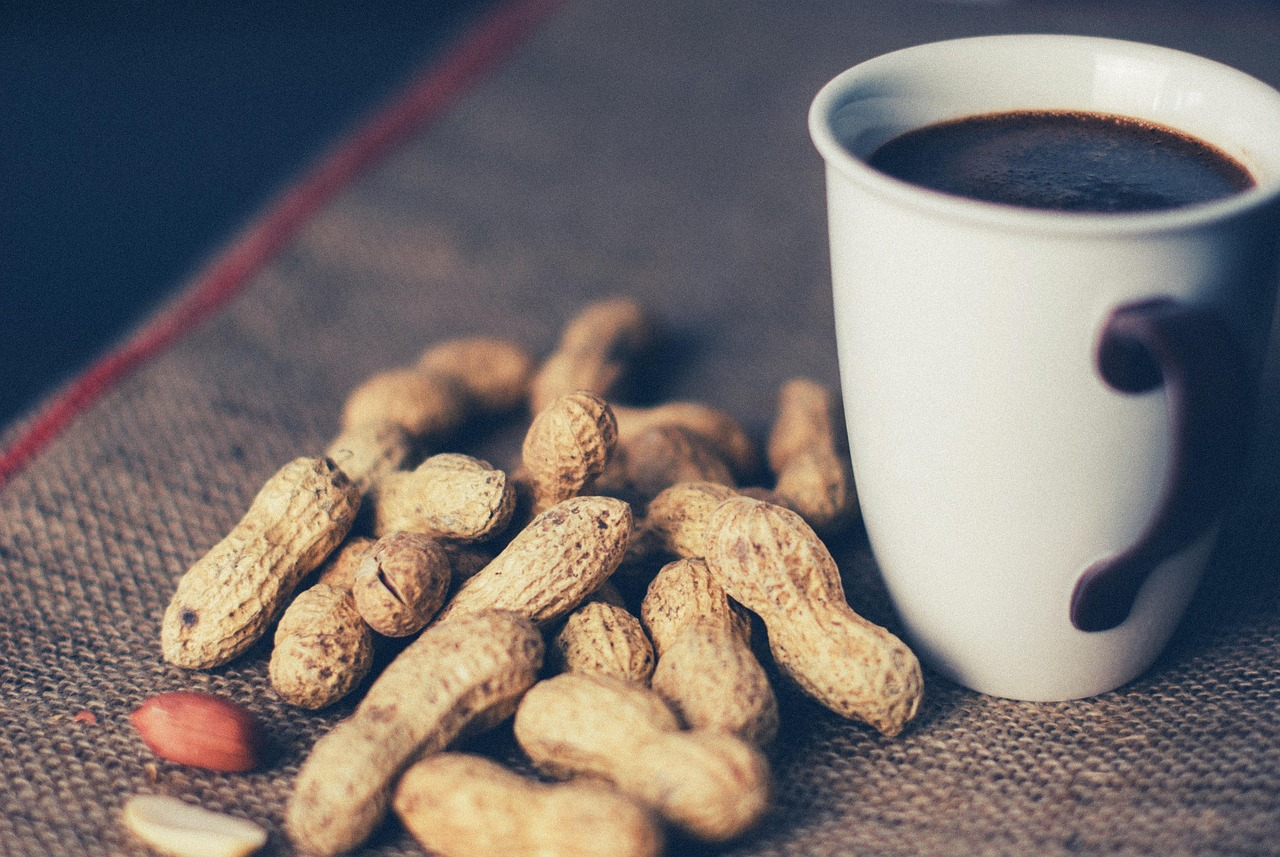mug: (764, 32, 1280, 733)
